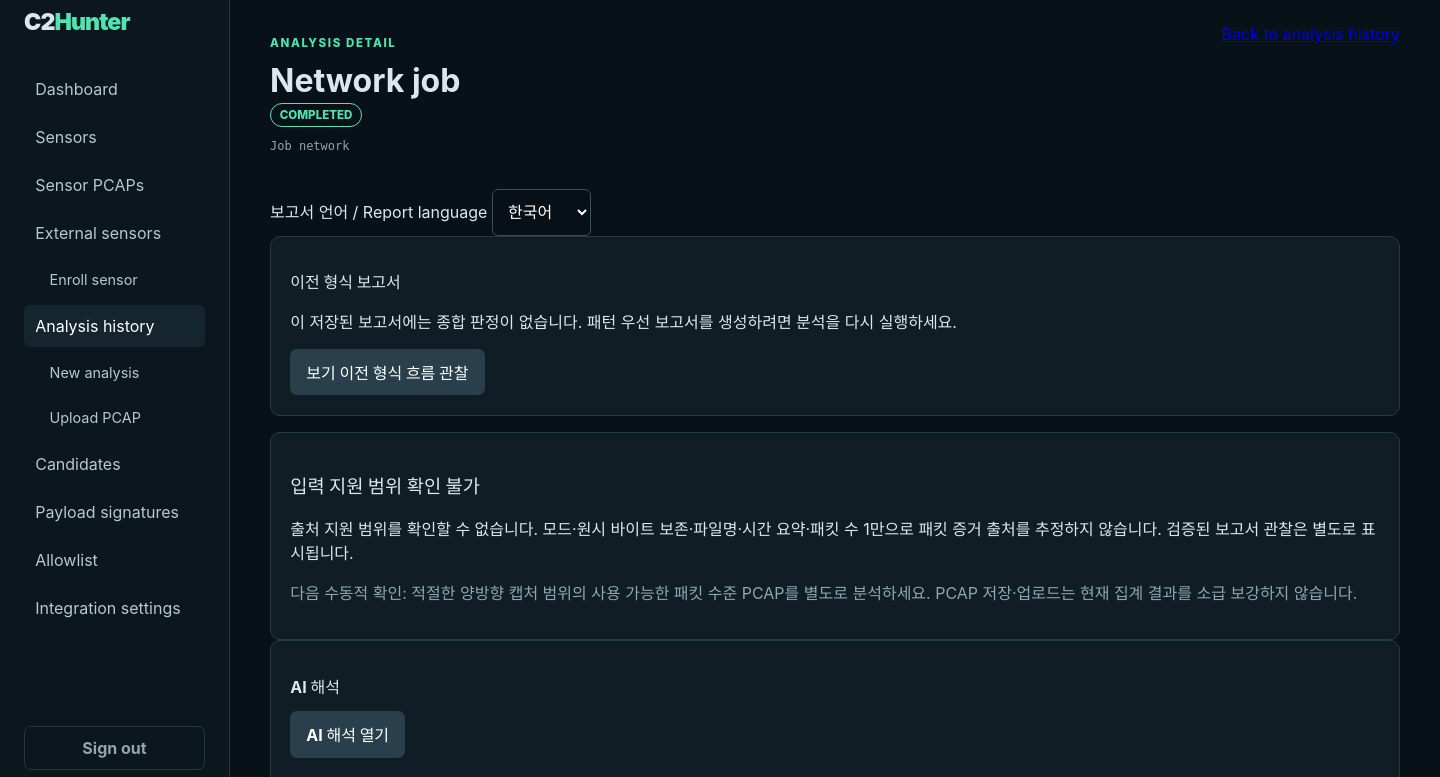
it: truthfully explains disabled or unavailable AI without generating a result
The image size is (1440, 777).
Click the button "AI 해석 열기": (348,734) [290,711,405,758]
(page scrolled)
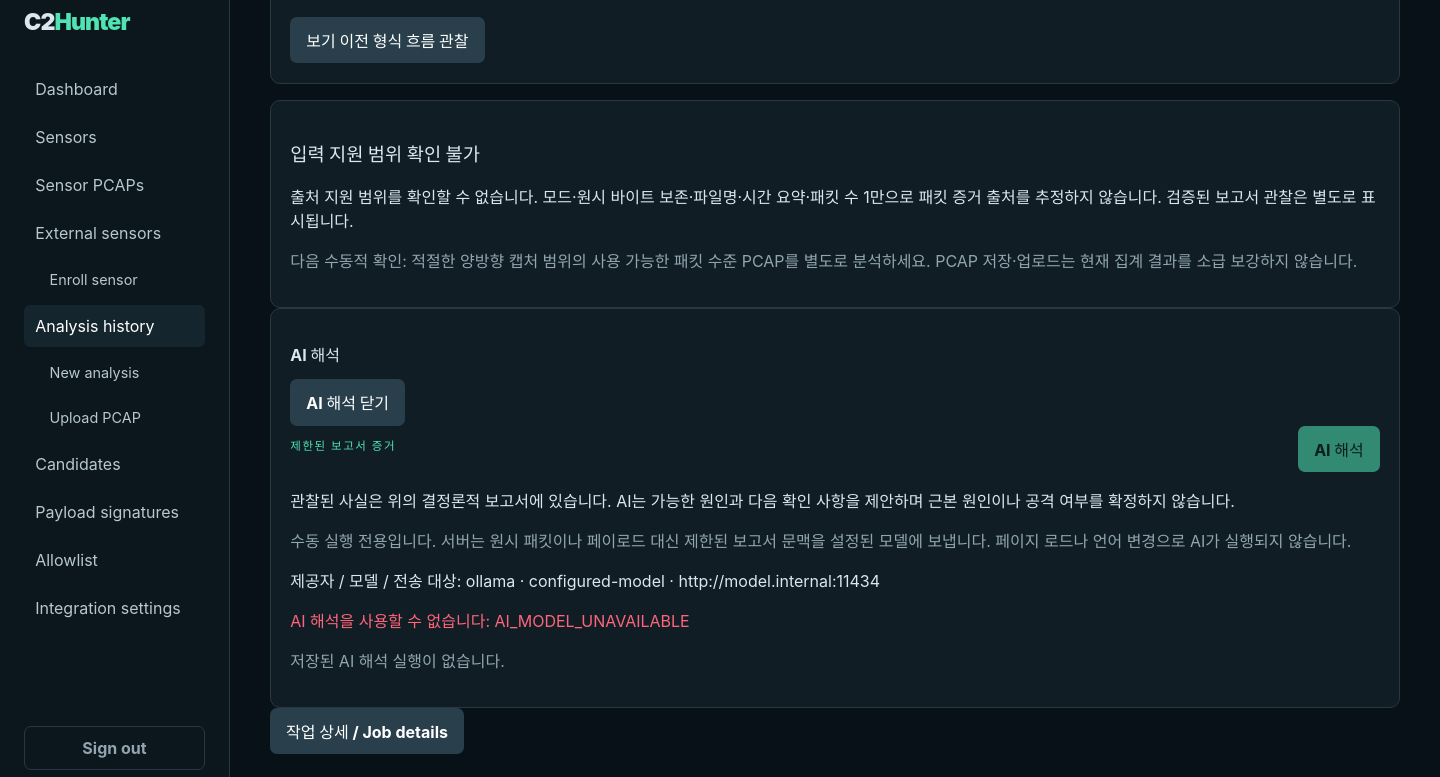
Now the text "AI 해석을 사용할 수 없습니다: AI_MODEL_UNAVAILABLE" is shown, box [290,611,690,631]
Now the button "AI 해석" is disabled, box [1298,426,1380,472]
